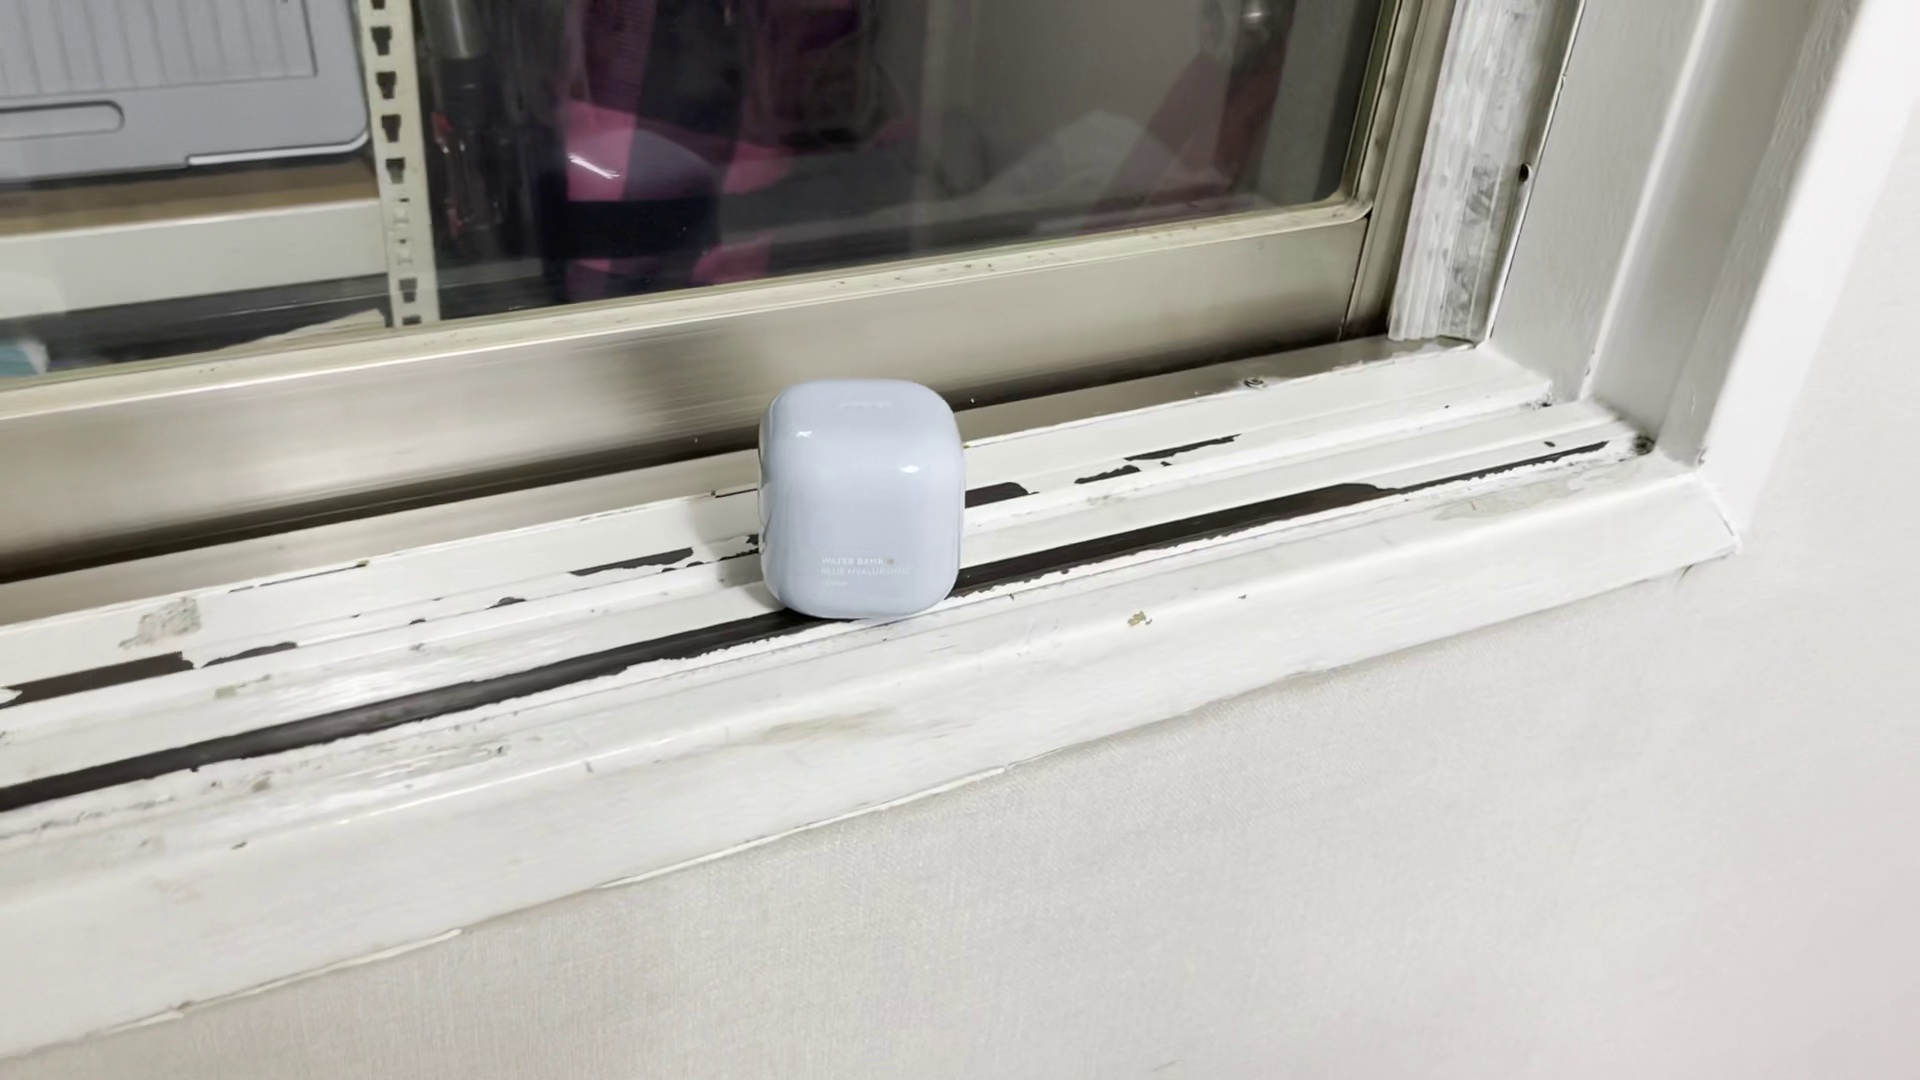cream: (761, 384, 961, 617)
